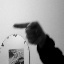g: (12, 20, 46, 46)
